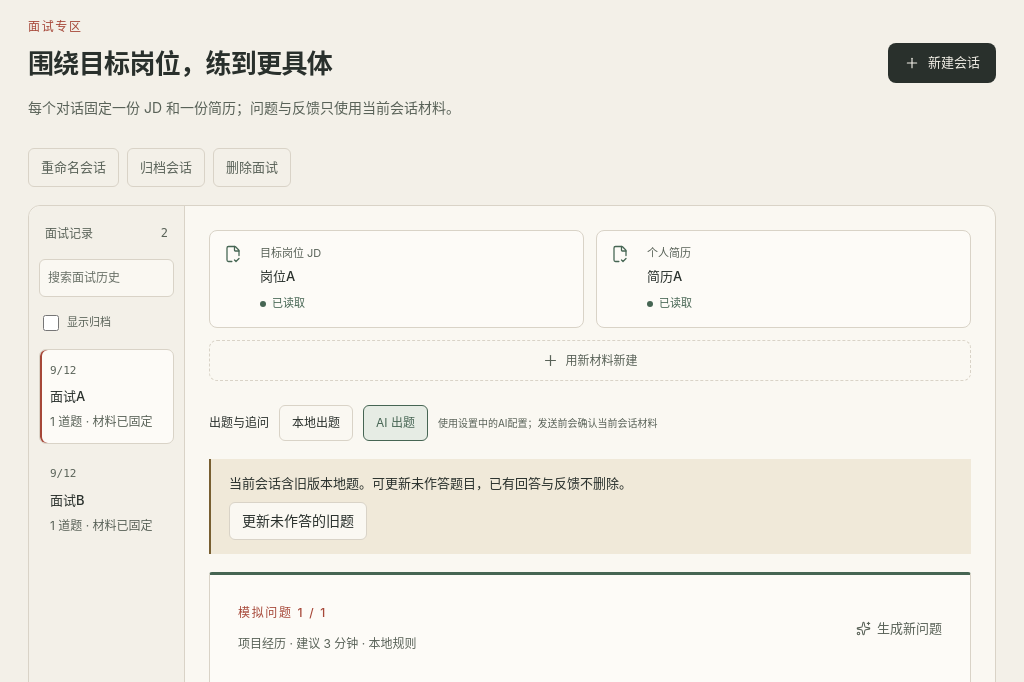
Scenario: InterviewStudio › 材料固定后简历仍可只读查看，关闭后恢复回答区
Click the button "个人简历 简历A 已读取".
click(669, 253)  # box [596, 230, 971, 328]
(page scrolled)
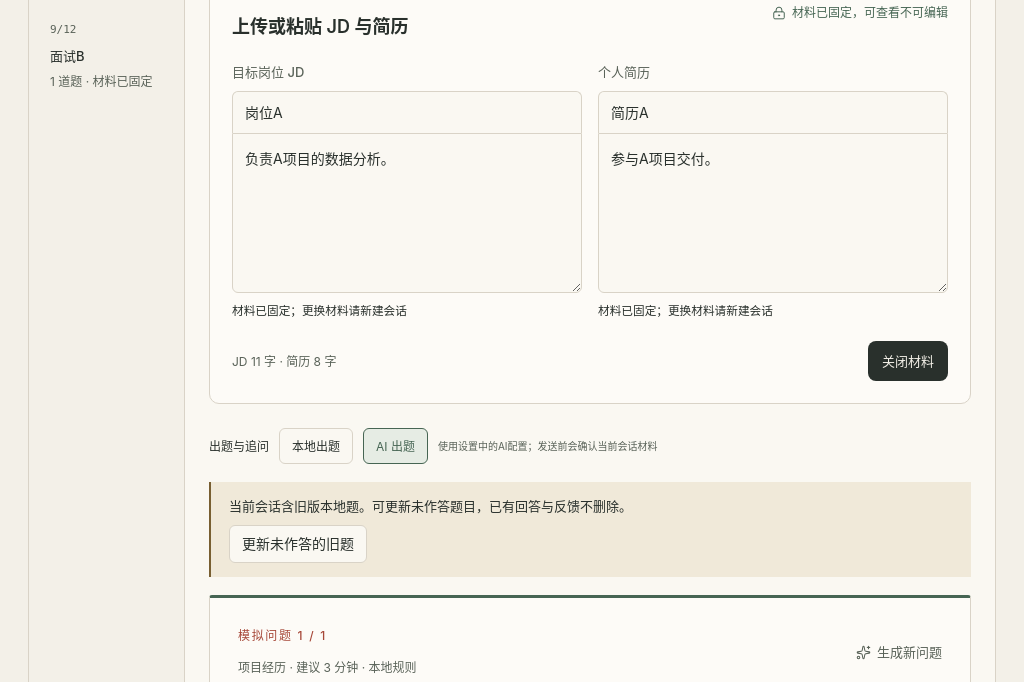
Click the button "关闭材料".
click(908, 361)  # box [868, 341, 948, 381]
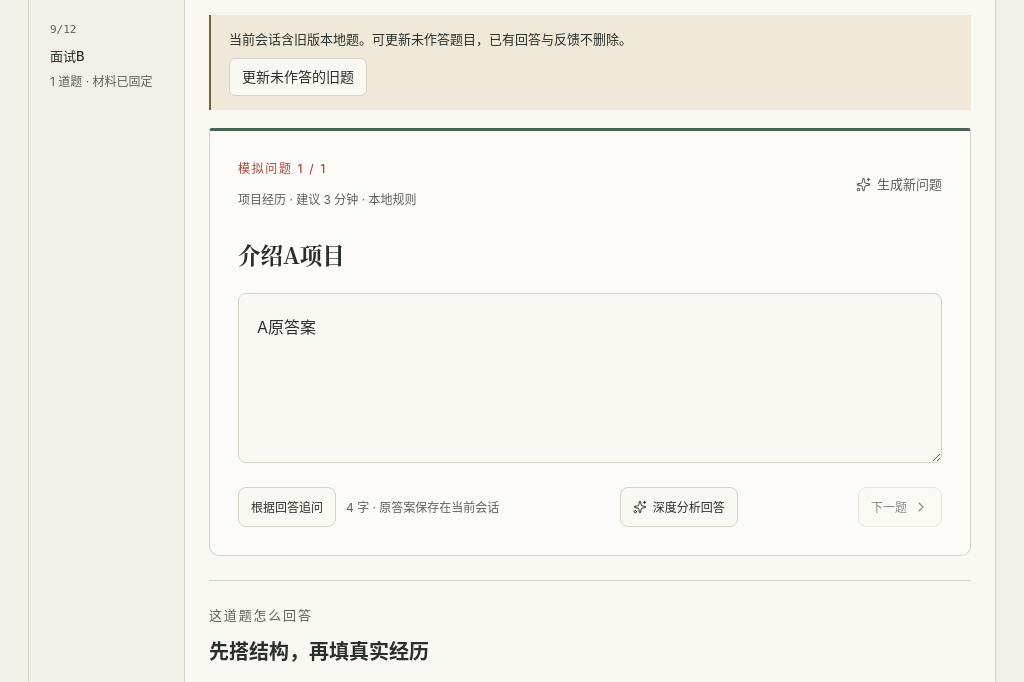
Now the text box labelled "个人简历正文" is gone
